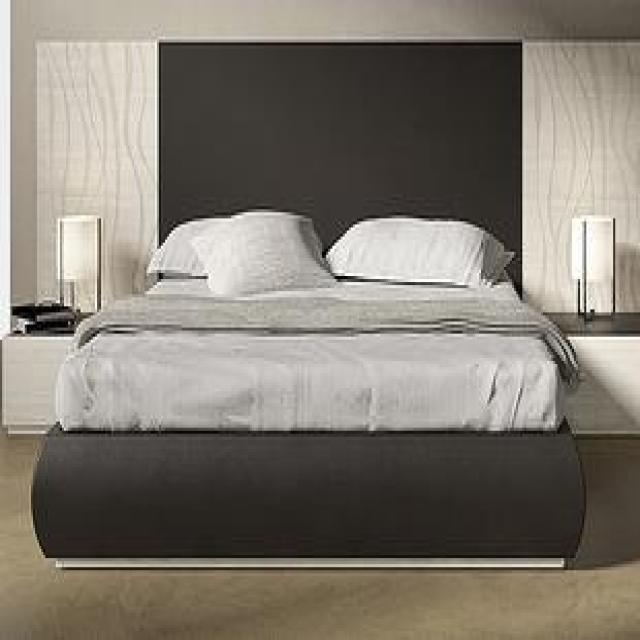bed: (26, 209, 590, 572)
